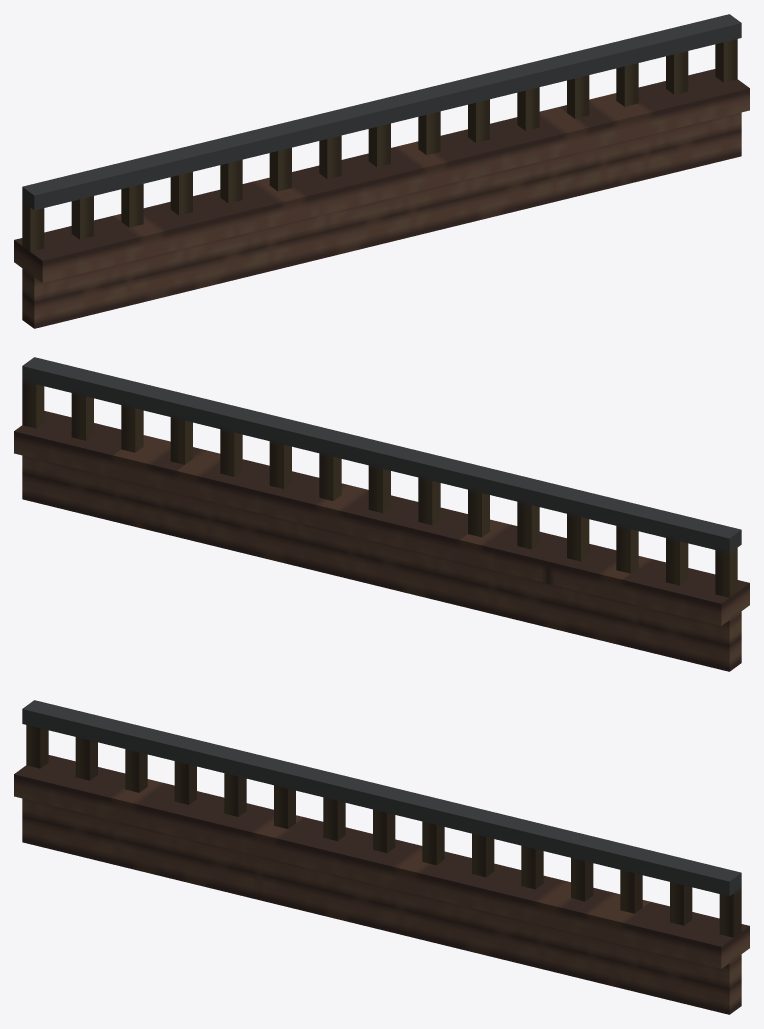
The model's file is OuterFence_SidesShort_00.fbx.
3 views of the same model, one above another, from view 1: azimuth 30°, elevation 25°; view 2: azimuth 150°, elevation 25°; view 3: azimuth 330°, elevation 25° (orthographic).
Visible parts, largest first — view 1: OuterFence_SidesShort_00; view 2: OuterFence_SidesShort_00; view 3: OuterFence_SidesShort_00.
Part boxes in pixels (x1=…): OuterFence_SidesShort_00: x1=14, y1=14, x2=749, y2=328; OuterFence_SidesShort_00: x1=14, y1=357, x2=749, y2=671; OuterFence_SidesShort_00: x1=14, y1=700, x2=749, y2=1014.
Bounding box in the file's own units: 500 × 90 × 35.
